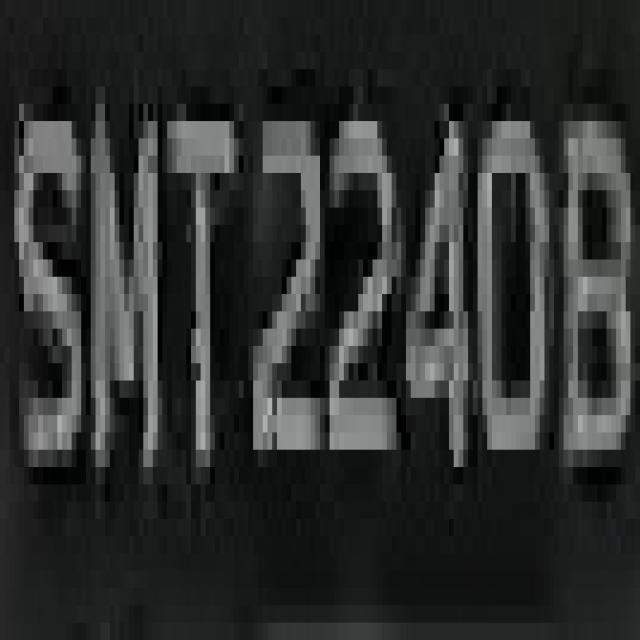0: (459, 104, 554, 571)
2: (320, 86, 411, 554), (239, 104, 325, 536)
4: (387, 52, 468, 536)
B: (554, 69, 635, 554)
M: (72, 87, 182, 536)
S: (0, 52, 81, 502)
T: (153, 121, 248, 450)
